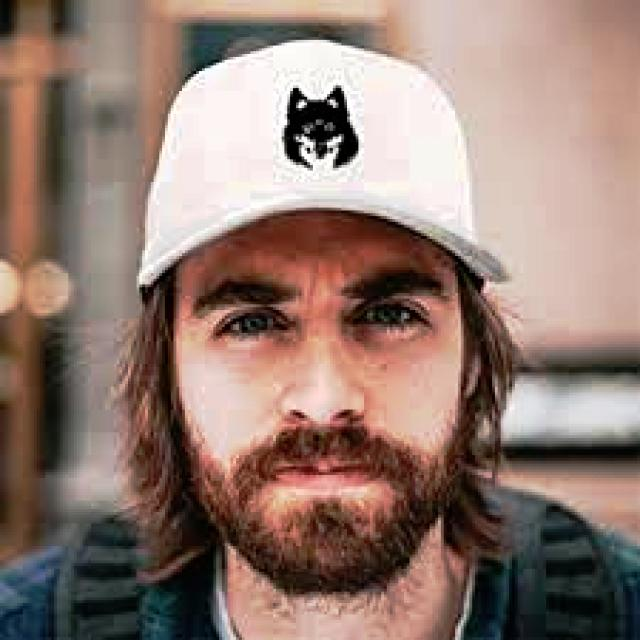TOPI: (134, 34, 509, 287)
